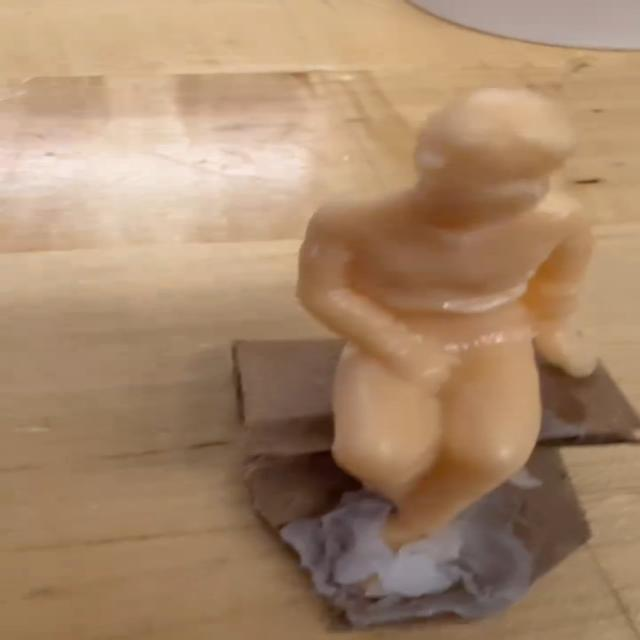Unauthorized: (264, 64, 640, 640)
